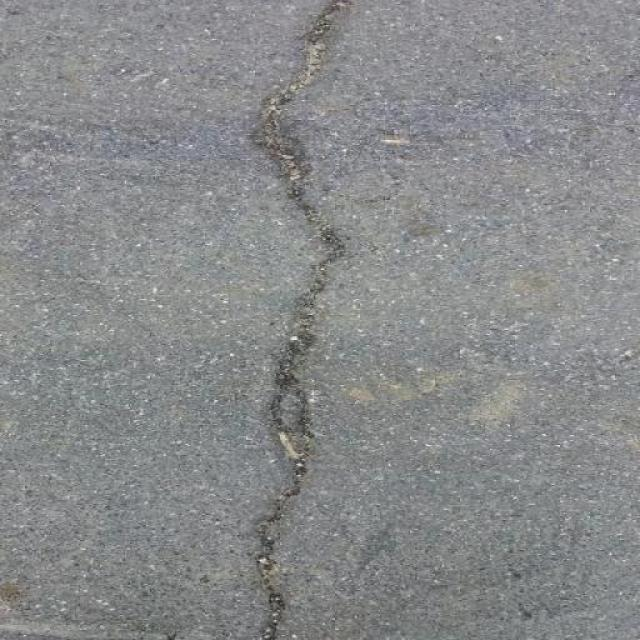Crack: (226, 0, 372, 640)
